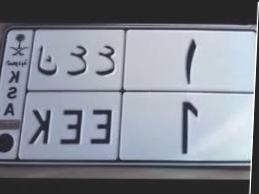License_Plate: (0, 20, 257, 170)
